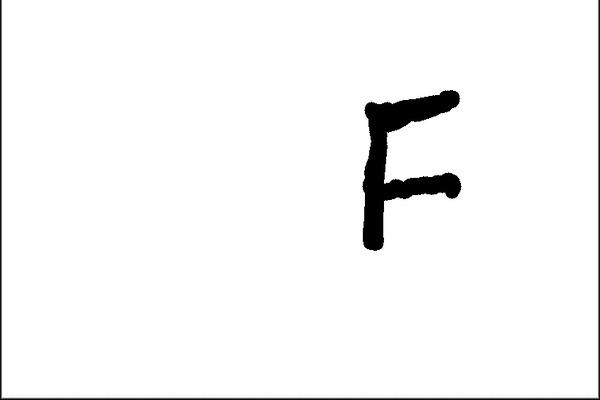F: (356, 86, 467, 255)
